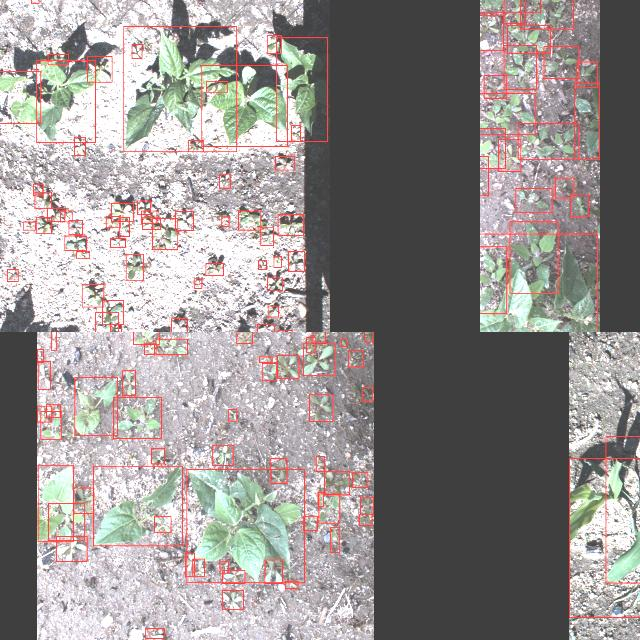crop: (124, 25, 236, 151), (186, 468, 304, 582), (480, 233, 597, 332), (568, 457, 640, 616), (92, 465, 182, 545), (201, 64, 287, 146), (276, 37, 328, 141), (36, 60, 94, 142), (37, 465, 73, 541), (74, 377, 116, 435), (0, 71, 39, 123), (318, 493, 339, 522)
weed: (510, 222, 558, 292), (480, 92, 535, 133), (518, 123, 578, 159), (574, 82, 600, 158), (113, 397, 161, 438), (480, 245, 506, 312), (519, 0, 573, 28), (504, 45, 536, 89), (47, 502, 83, 540), (506, 24, 550, 52), (544, 46, 578, 78), (303, 343, 335, 375), (480, 128, 504, 168), (516, 188, 552, 212), (480, 14, 503, 49), (151, 218, 177, 248), (56, 536, 86, 560), (498, 139, 520, 171), (86, 55, 112, 81), (309, 394, 333, 421), (324, 472, 350, 494), (40, 410, 60, 438), (277, 213, 303, 234), (484, 74, 506, 98), (576, 62, 598, 86), (277, 354, 299, 378), (73, 487, 93, 513), (155, 338, 187, 354), (503, 0, 525, 23), (101, 299, 122, 323), (81, 284, 103, 306), (94, 312, 117, 332), (238, 210, 260, 230), (264, 559, 282, 583), (126, 253, 142, 279), (554, 177, 574, 197), (222, 589, 242, 609), (212, 445, 232, 465), (111, 202, 133, 220), (570, 194, 588, 216), (270, 458, 286, 482), (175, 210, 193, 230), (64, 234, 86, 250), (37, 360, 49, 388), (288, 251, 304, 271), (132, 332, 158, 344), (122, 370, 134, 394), (274, 155, 294, 169), (348, 349, 364, 366), (222, 570, 244, 582), (330, 526, 340, 552), (34, 191, 50, 207), (154, 516, 170, 532), (36, 405, 52, 421), (267, 35, 281, 53), (36, 216, 50, 234), (46, 207, 64, 221), (260, 227, 274, 245), (262, 362, 276, 380), (184, 552, 194, 576), (361, 496, 374, 514), (171, 318, 187, 332), (352, 472, 368, 486), (74, 136, 85, 156), (205, 81, 227, 91), (142, 217, 160, 229), (205, 263, 223, 275), (192, 558, 204, 576), (150, 447, 163, 463), (47, 54, 67, 64), (144, 628, 164, 638), (268, 276, 282, 290), (68, 220, 82, 234), (136, 200, 150, 214), (303, 516, 317, 530), (119, 217, 129, 236), (236, 332, 252, 343), (105, 215, 119, 227), (142, 210, 156, 222), (218, 173, 230, 187), (45, 404, 59, 416), (311, 332, 325, 343), (6, 269, 18, 281), (59, 210, 71, 222), (131, 44, 141, 58), (188, 140, 202, 150), (362, 386, 372, 400), (358, 514, 372, 524), (256, 324, 273, 332), (292, 124, 300, 140), (306, 336, 314, 352), (32, 183, 42, 195), (110, 238, 124, 246), (284, 580, 298, 588), (316, 456, 324, 470), (144, 342, 154, 353), (75, 250, 88, 258), (268, 306, 278, 316), (109, 323, 120, 332), (22, 221, 34, 229), (228, 408, 236, 420), (50, 332, 55, 349), (258, 356, 272, 362), (36, 348, 42, 362), (364, 332, 373, 341), (273, 256, 281, 266), (193, 278, 201, 288), (220, 562, 228, 572), (258, 260, 266, 268), (222, 216, 228, 226), (318, 492, 322, 506), (340, 338, 346, 346), (278, 330, 292, 332), (30, 0, 38, 3)
